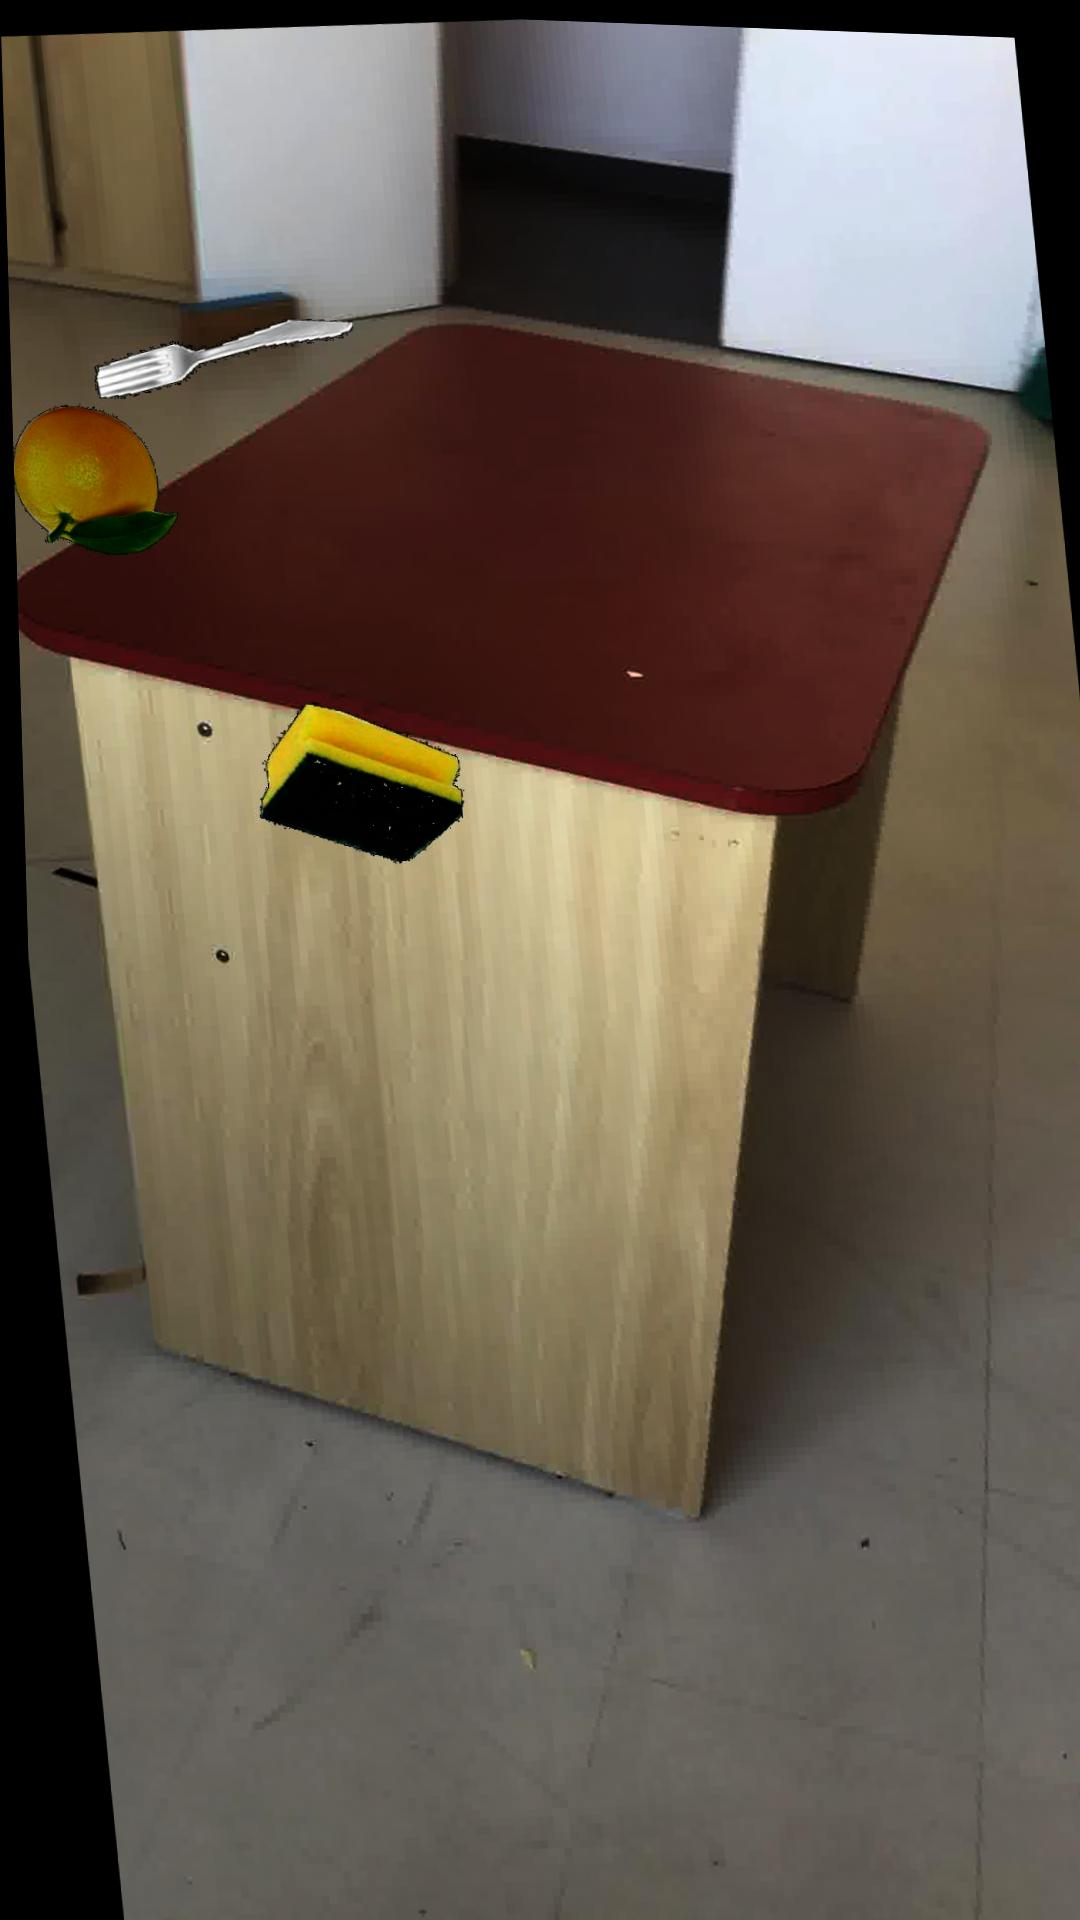fork: (92, 314, 351, 396)
orange: (11, 402, 175, 551)
sponge: (255, 698, 459, 857)
